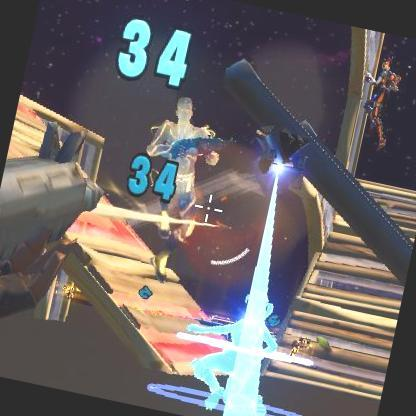person: (128, 88, 214, 278), (359, 49, 410, 148)
